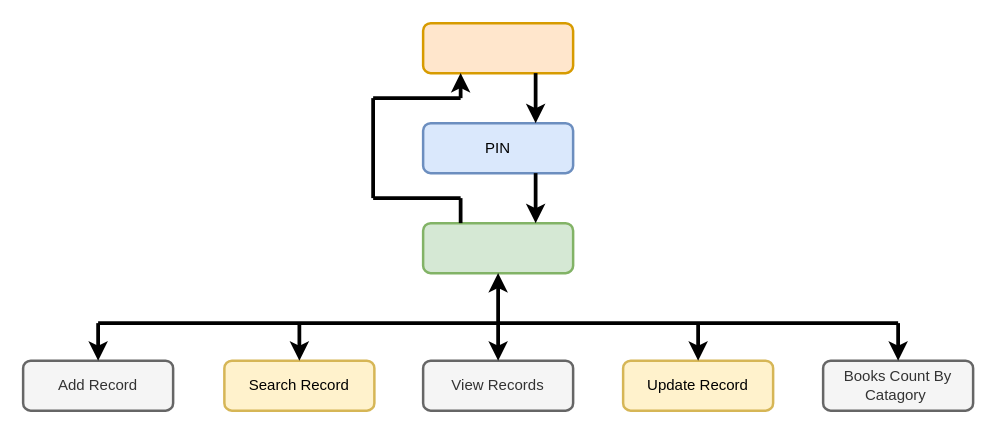
The diagram is 995 pixels wide and 433 high, and some of its shapes have lost their labels. Here are the shapes that lost their labels. From the top down, the centre of each, then its label:
At pixel 497 47: "Terminal".
At pixel 497 247: "Menu".
